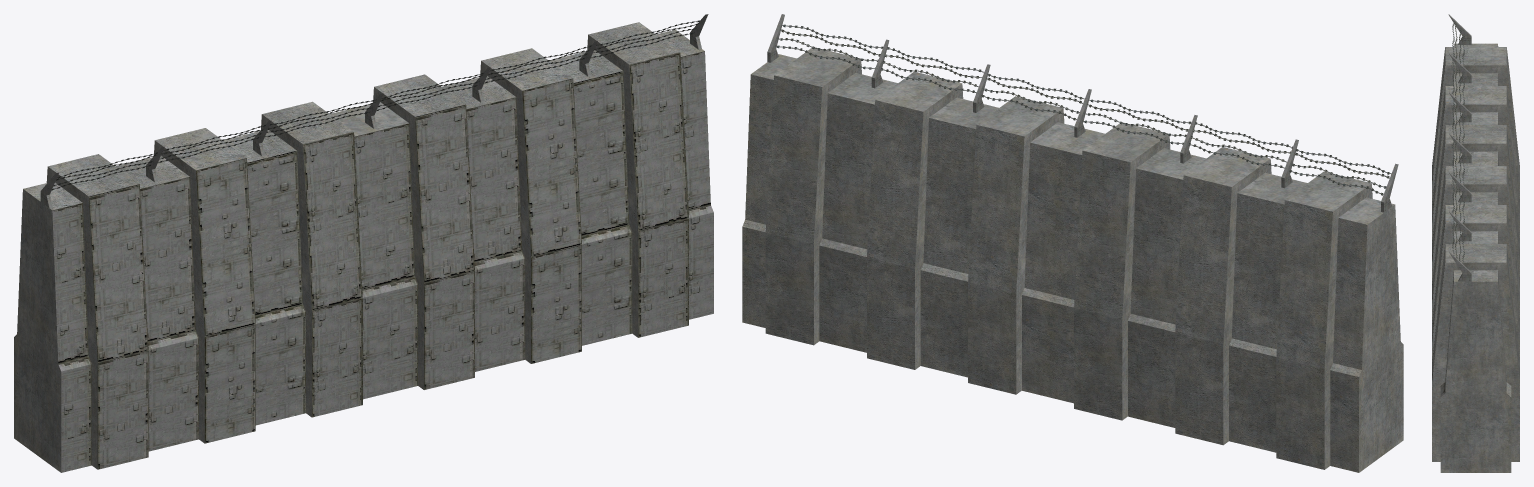
The model's file is mun_all_military_wall_strong_impl_16_s01_l0.fbx.
3 renders of one model, left to right at view 1: azimuth 30°, elevation 25°; view 2: azimuth 150°, elevation 25°; view 3: azimuth 270°, elevation 25°, orthographic. The views are drawn at different scales.
Visible parts, largest first — view 1: mesh_node; view 2: mesh_node; view 3: mesh_node.
Boxes of the visible parts, left/top/right/bottom form: mesh_node: left=14, top=14, right=713, bottom=472; mesh_node: left=742, top=14, right=1403, bottom=472; mesh_node: left=1432, top=14, right=1519, bottom=472.
Bounding box in the file's own units: 16 × 6.93 × 2.5.
